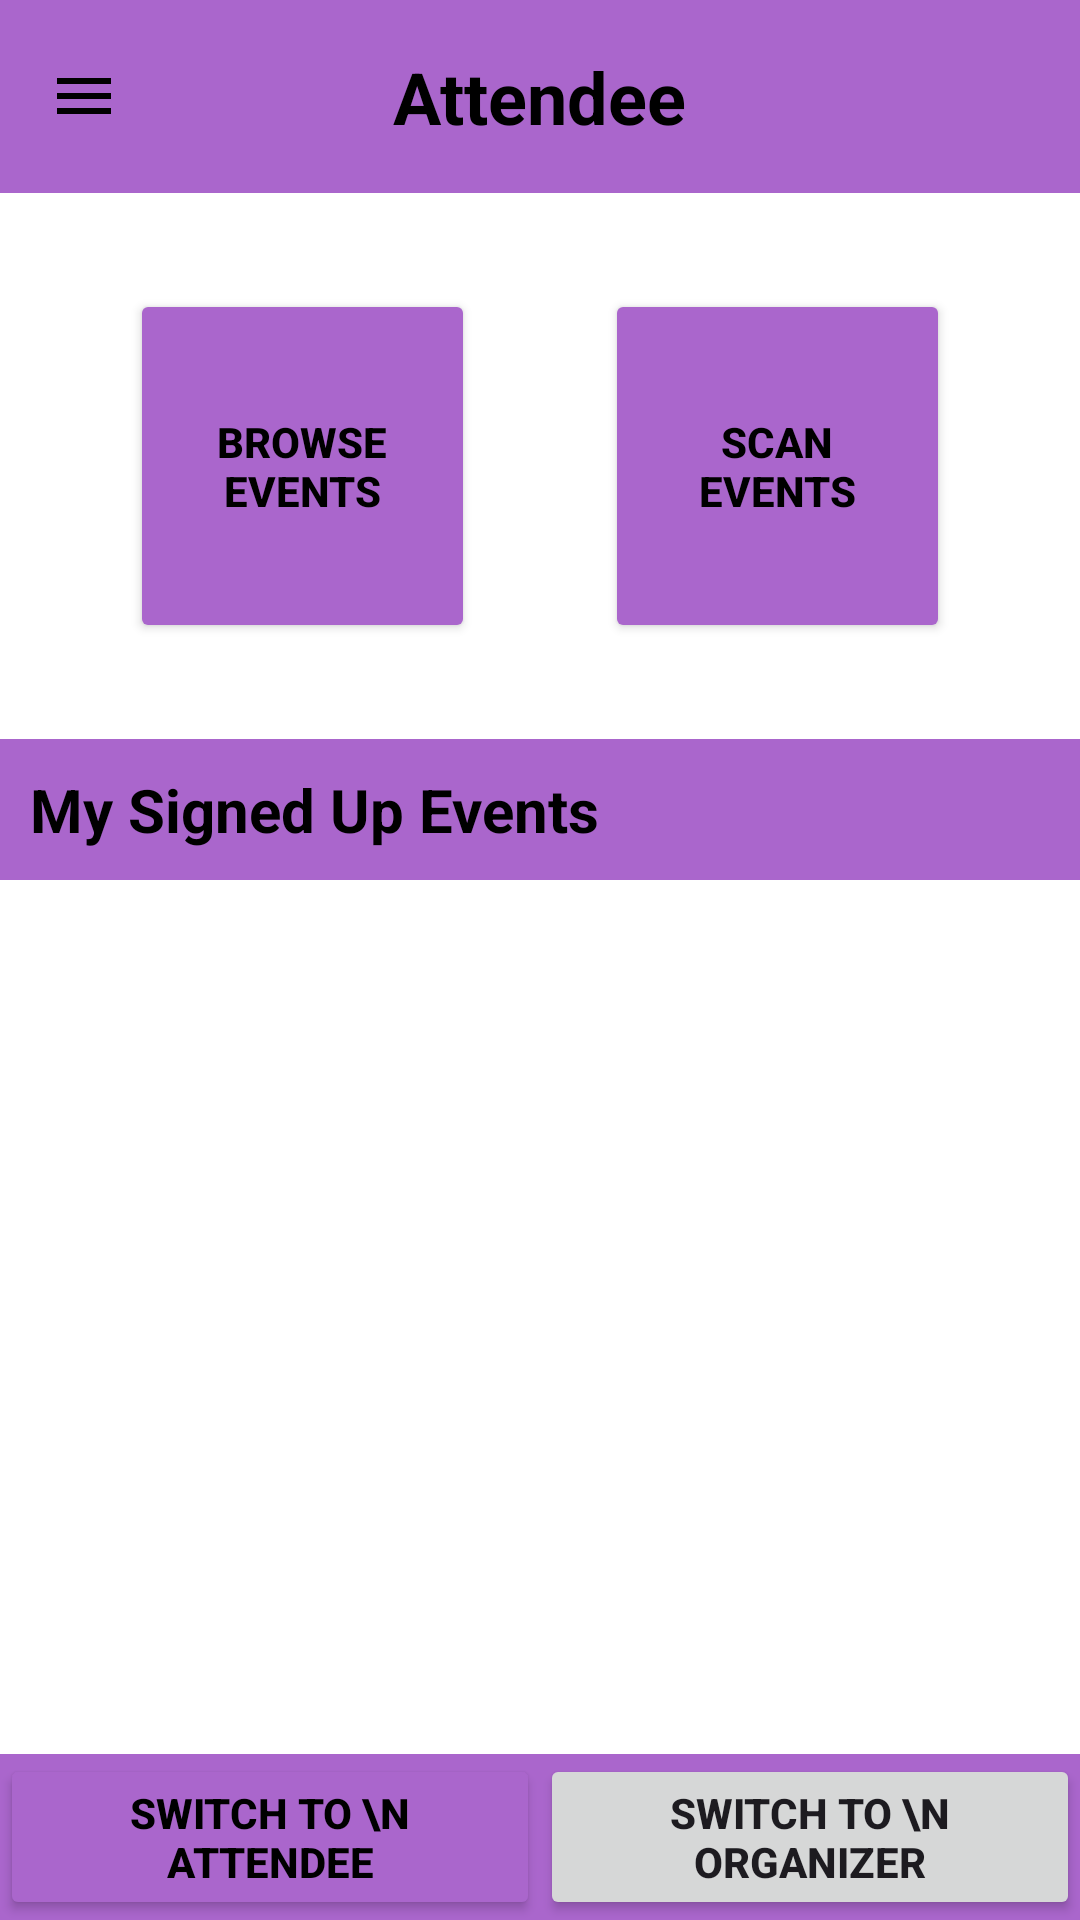

Where icons sit on this 1080px x 1920px app screen, as (x1=x1, y1=y1, x2=x2, y2=y2):
menu: (x1=57, y1=78, x2=111, y2=114)
